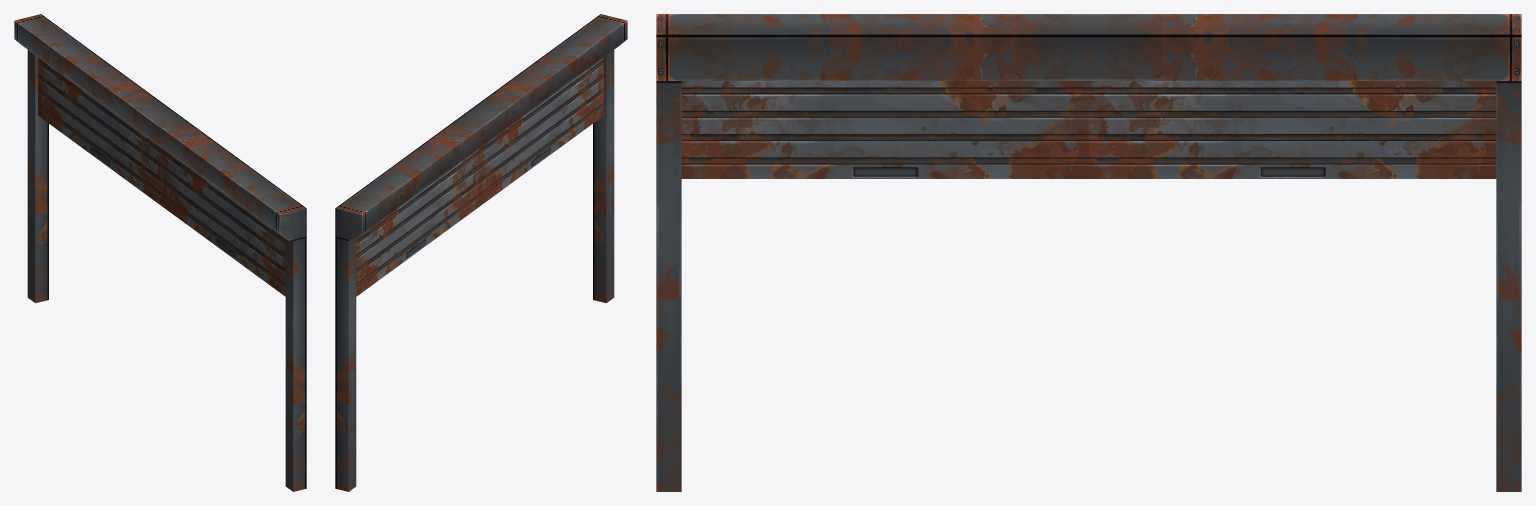
The model's file is rollerShutter04_6m.fbx.
The picture shows the model from 3 angles, left to right: view 1: azimuth 30°, elevation 25°; view 2: azimuth 150°, elevation 25°; view 3: azimuth 270°, elevation 25°; orthographic projection. The views are drawn at different scales.
Parts seen in each view (by area): view 1: rollerShutter04_6m; view 2: rollerShutter04_6m; view 3: rollerShutter04_6m.
Boxes of the visible parts, bbox=[...] form: rollerShutter04_6m: bbox=[14, 14, 306, 491]; rollerShutter04_6m: bbox=[335, 14, 627, 491]; rollerShutter04_6m: bbox=[656, 14, 1521, 491].
Bounding box in the file's own units: 30 × 300 × 515.
